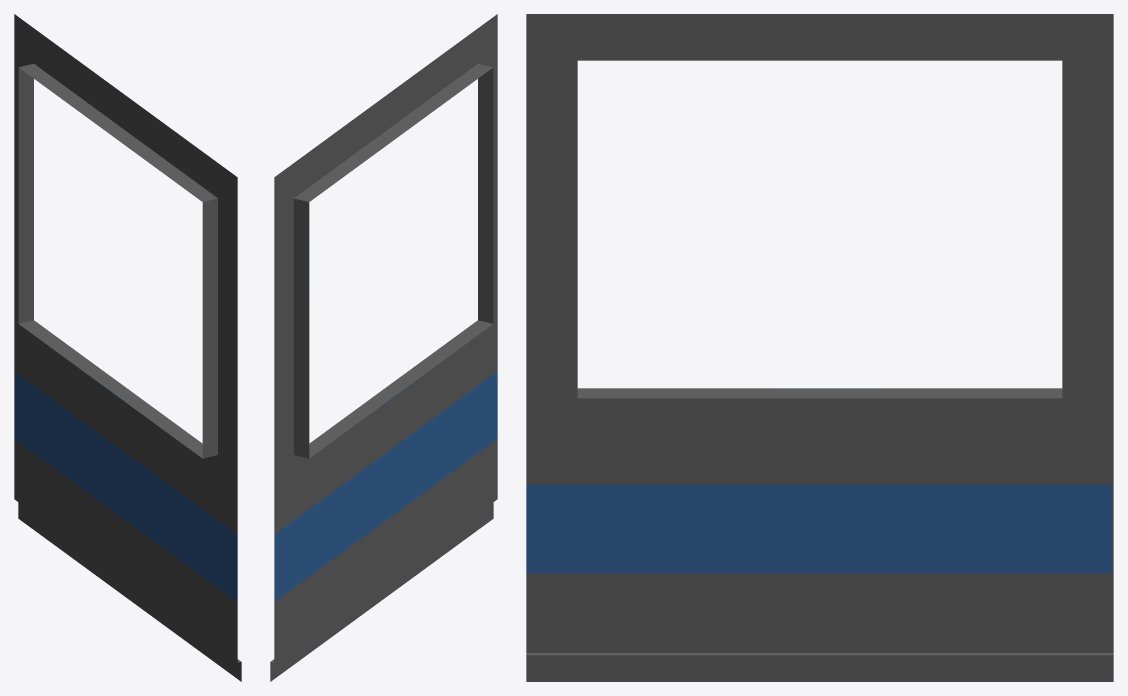
File: Wall_Window_2x2_Office_A.fbx
3 renders of one model, left to right at view 1: azimuth 30°, elevation 25°; view 2: azimuth 150°, elevation 25°; view 3: azimuth 270°, elevation 25°, orthographic. The views are drawn at different scales.
Parts seen in each view (by area): view 1: Wall_Window_2x2_Office_A.001; view 2: Wall_Window_2x2_Office_A.001; view 3: Wall_Window_2x2_Office_A.001.
Boxes of the visible parts, left/top/right/bottom form: Wall_Window_2x2_Office_A.001: left=14, top=14, right=241, bottom=681; Wall_Window_2x2_Office_A.001: left=270, top=14, right=497, bottom=681; Wall_Window_2x2_Office_A.001: left=526, top=14, right=1113, bottom=681.
Size of the model in its own units: 10 by 250 by 200.
